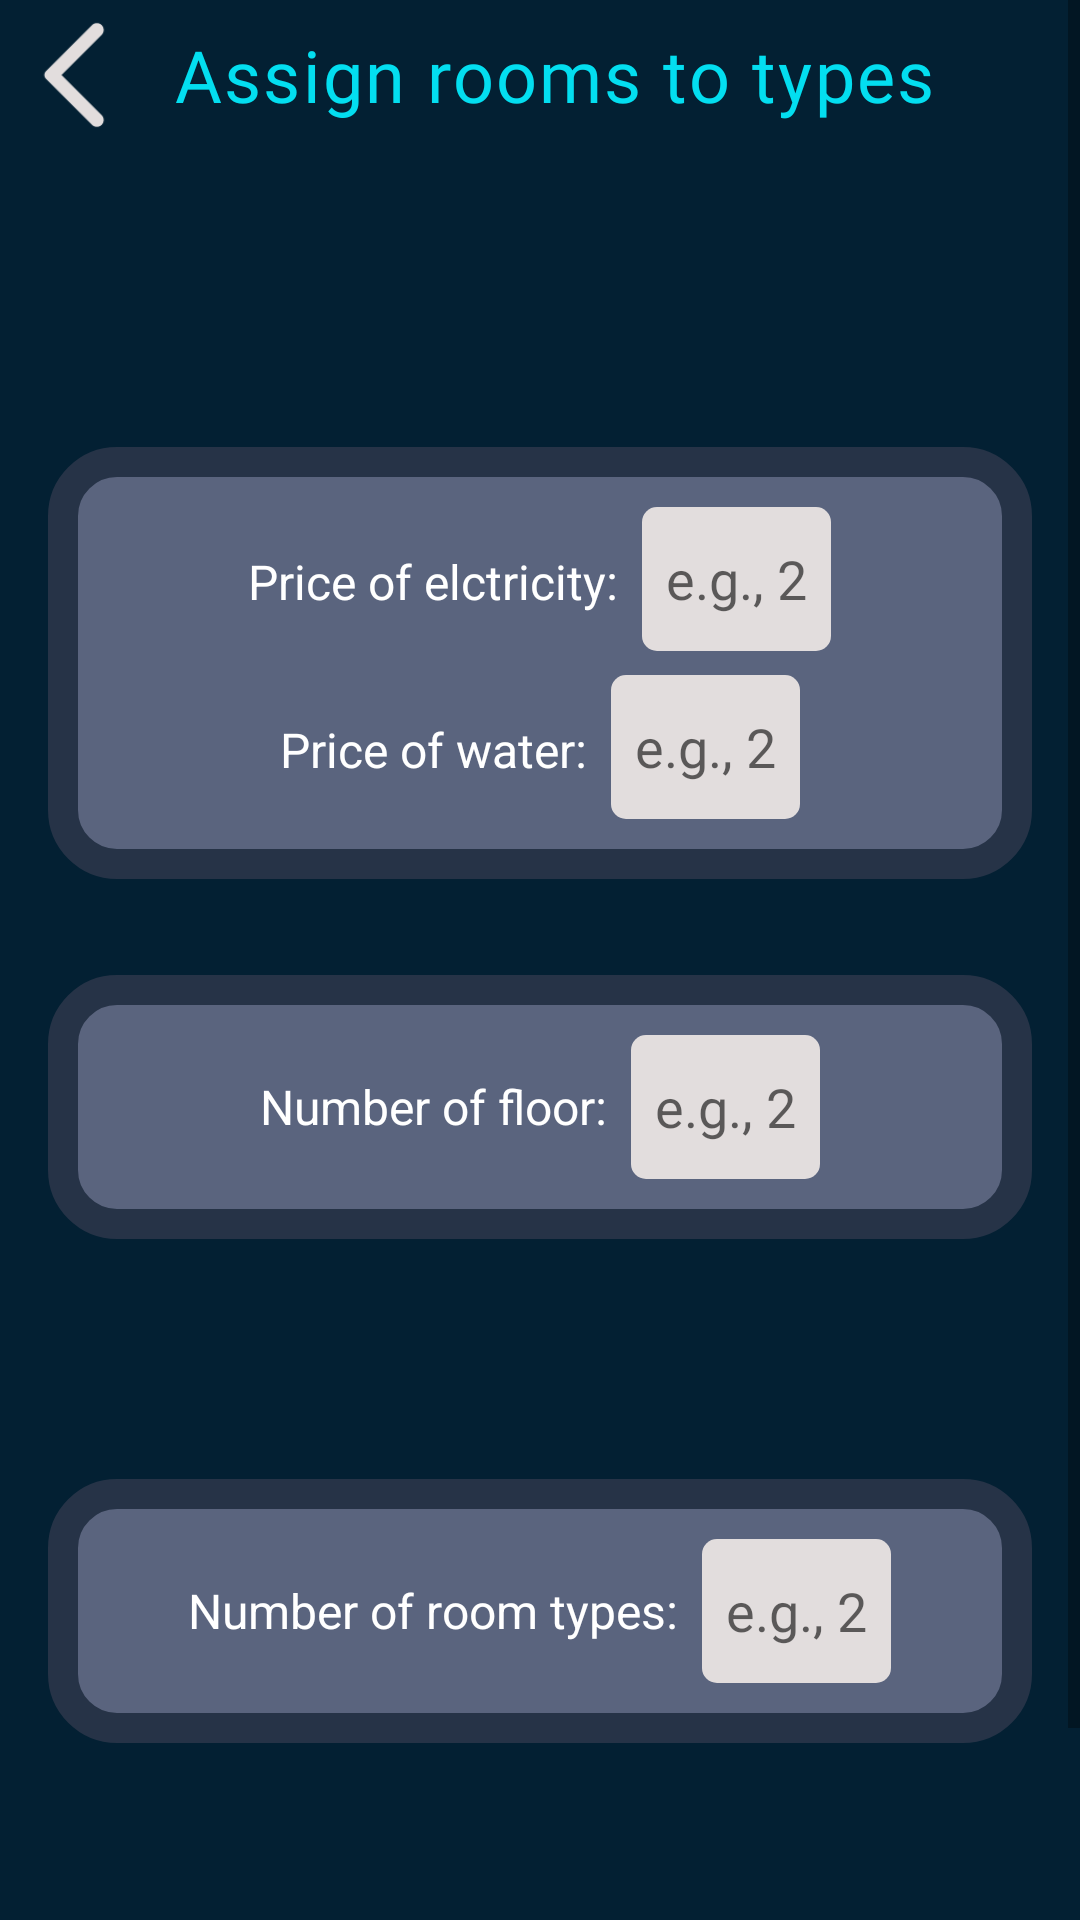

Named icons in this screenshot (1080px x 1920px) and their centers, (x,y):
arrow: (74,75)
